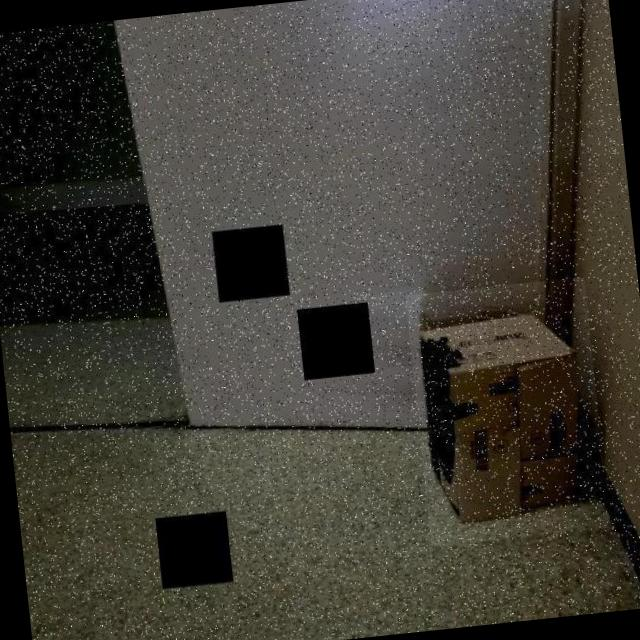box: (405, 276, 610, 546)
